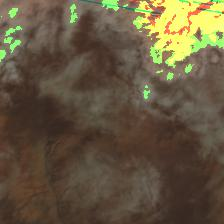landslides: (2, 98, 44, 110), (192, 84, 224, 96), (16, 170, 32, 178), (176, 0, 194, 7)
